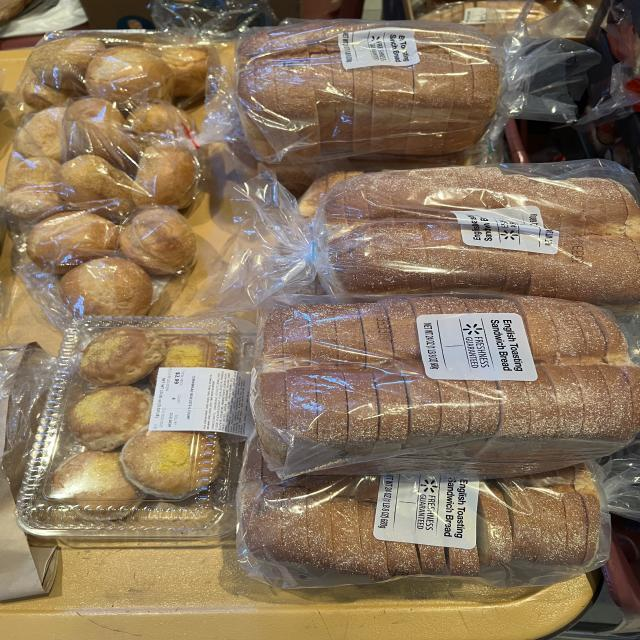Bread: (252, 295, 638, 478), (202, 160, 638, 314), (237, 436, 610, 589), (237, 5, 600, 162), (17, 318, 253, 545), (5, 95, 208, 240), (22, 0, 275, 110), (10, 199, 197, 329), (0, 342, 58, 601), (420, 0, 525, 40), (200, 95, 232, 142), (525, 2, 552, 24)
